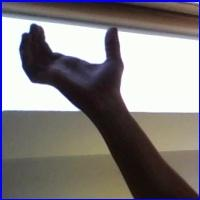space: (12, 20, 139, 105)
